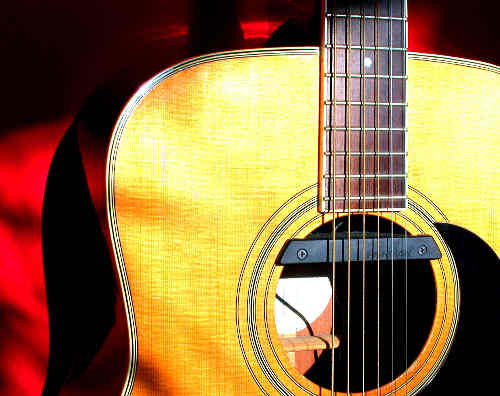guitar: (41, 3, 499, 383)
